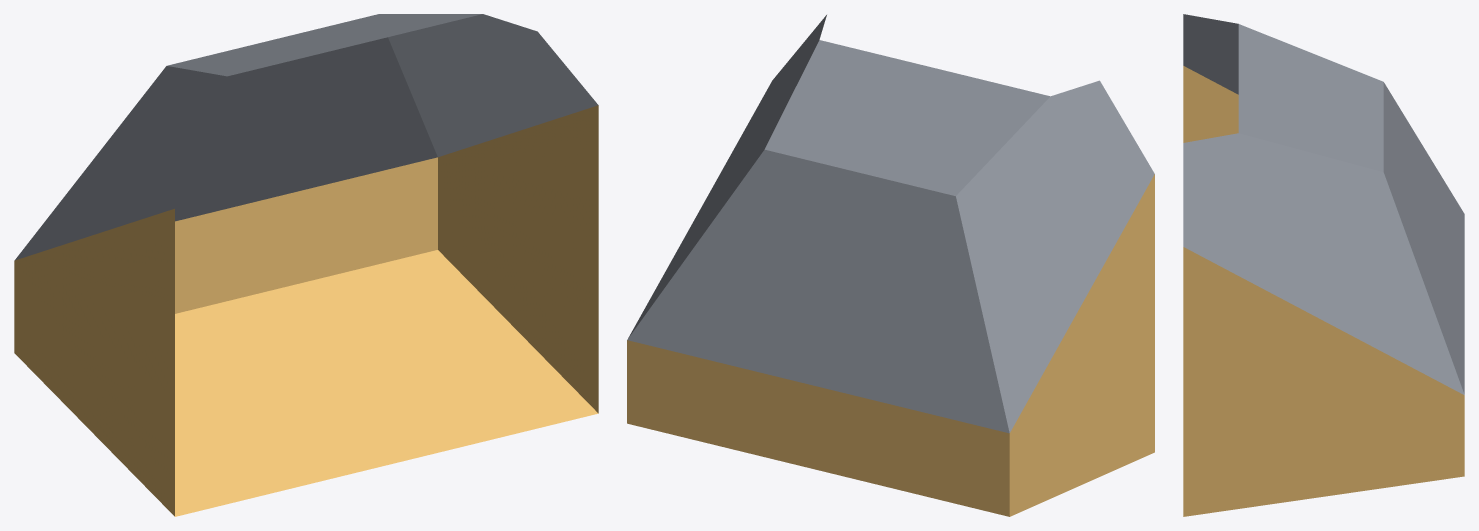
3 renders of one model, left to right at view 1: azimuth 30°, elevation 25°; view 2: azimuth 150°, elevation 25°; view 3: azimuth 270°, elevation 25°, orthographic. The views are drawn at different scales.
Size of the model in its own units: 0.8 by 0.7166 by 0.5257.
